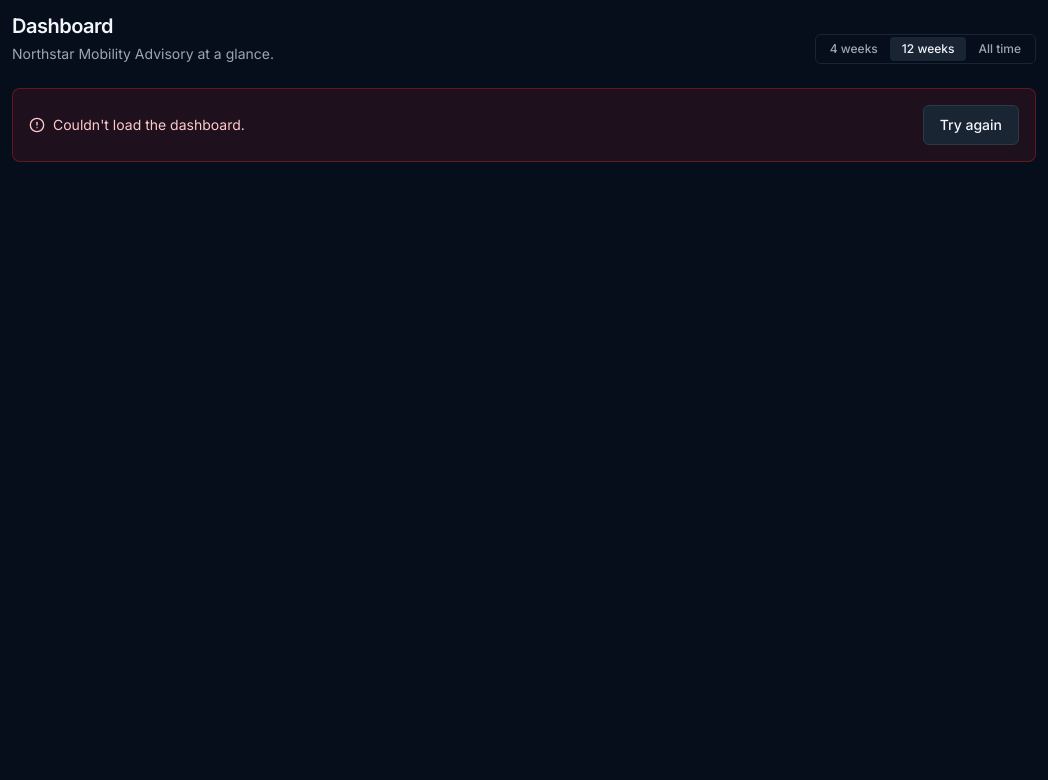
DashboardPage › shows an error with a working retry when analytics fail to load
The width and height of the screenshot is (1048, 780).
Expected: the text "Couldn't load the dashboard." is shown, [29,115,245,135]
Step 1. Click the button "Try again" → point(971, 125), box [923,105,1019,145]
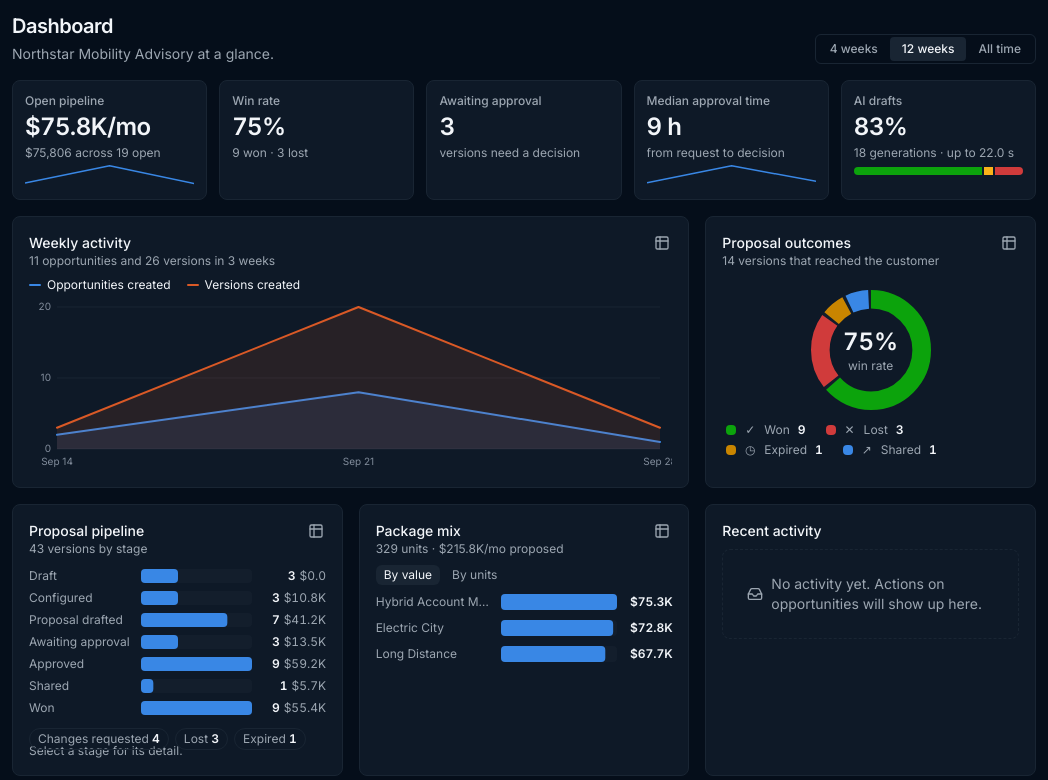
Result: the link "Open pipeline $75.8K/mo $75,806 across 19 open" is shown at [12,80,207,200]
